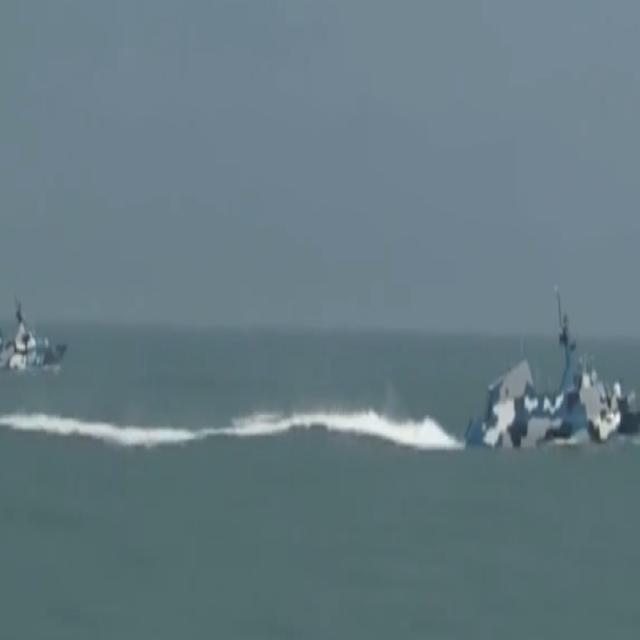houseboat: (466, 278, 640, 461), (0, 286, 67, 382)
